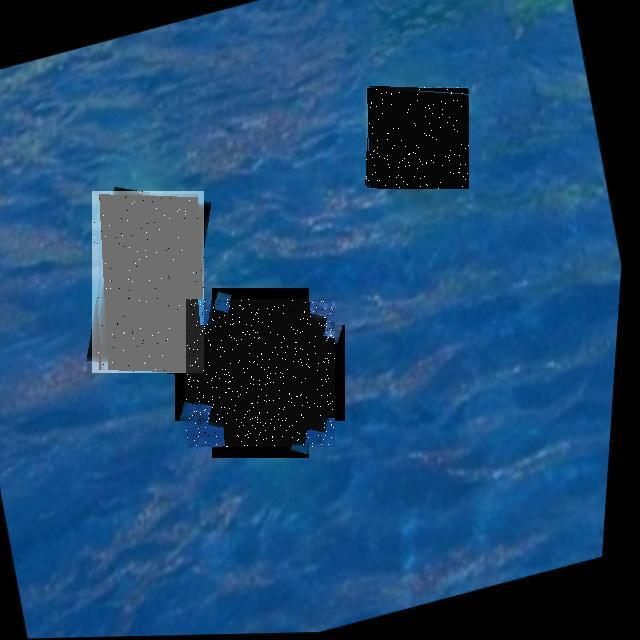swimming: (186, 299, 335, 447), (92, 191, 204, 373), (366, 87, 469, 189)
